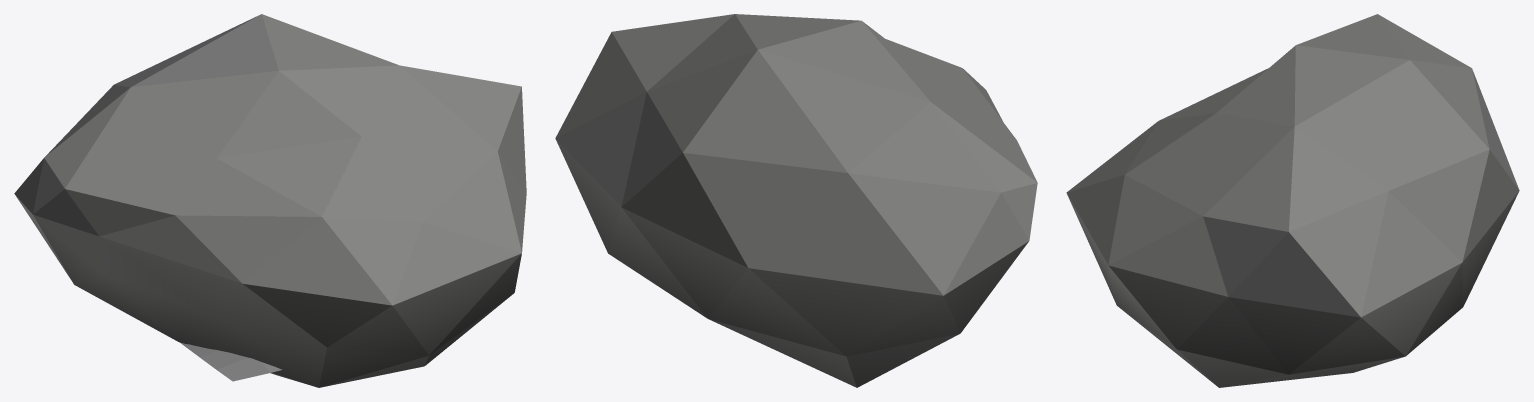
File: rock-shore-2.glb
3 renders of one model, left to right at view 1: azimuth 30°, elevation 25°; view 2: azimuth 150°, elevation 25°; view 3: azimuth 270°, elevation 25°, orthographic. The views are drawn at different scales.
Visible parts, largest first — view 1: rock-shore-2, rock-shore-2-moss1; view 2: rock-shore-2; view 3: rock-shore-2.
Part boxes in pixels (x1,y1,x2,y2): rock-shore-2: (14, 14, 526, 387); rock-shore-2-moss1: (180, 342, 282, 381); rock-shore-2: (555, 14, 1037, 387); rock-shore-2: (1066, 14, 1519, 387).
Bounding box in the file's own units: 2.51 × 1.6 × 2.17.
Materials: 2 (2 with a texture image).
